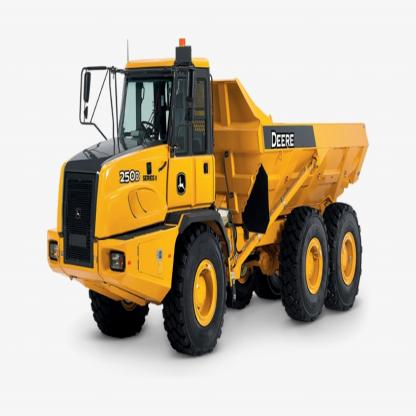dump_truck: (40, 35, 374, 344)
